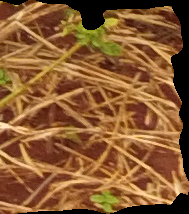soil: (1, 2, 189, 212)
